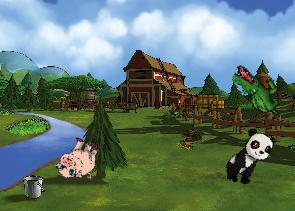crocodile: (223, 63, 292, 119)
panda: (220, 124, 278, 191)
pig: (52, 132, 104, 186)
